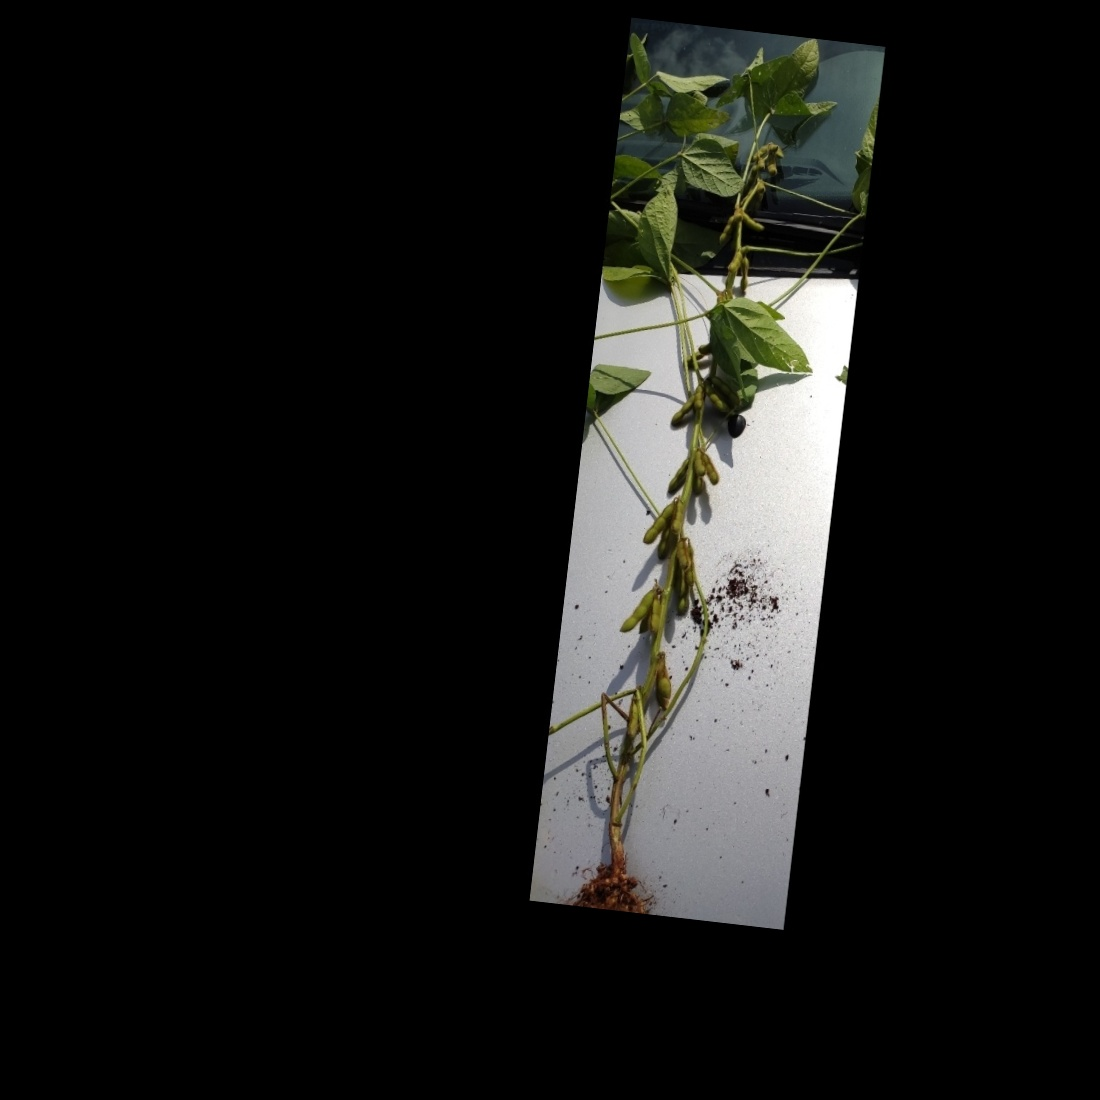pod: (641, 495, 681, 550), (616, 582, 657, 637), (699, 383, 738, 420), (704, 374, 744, 408), (658, 454, 690, 496), (651, 653, 677, 701), (672, 564, 694, 618), (669, 390, 699, 427), (695, 448, 724, 487), (715, 209, 739, 250), (668, 491, 686, 539), (672, 533, 693, 573), (737, 207, 768, 233), (726, 244, 747, 278), (737, 256, 754, 297), (690, 448, 711, 482), (691, 377, 708, 413)
soy: (535, 62, 873, 946)
